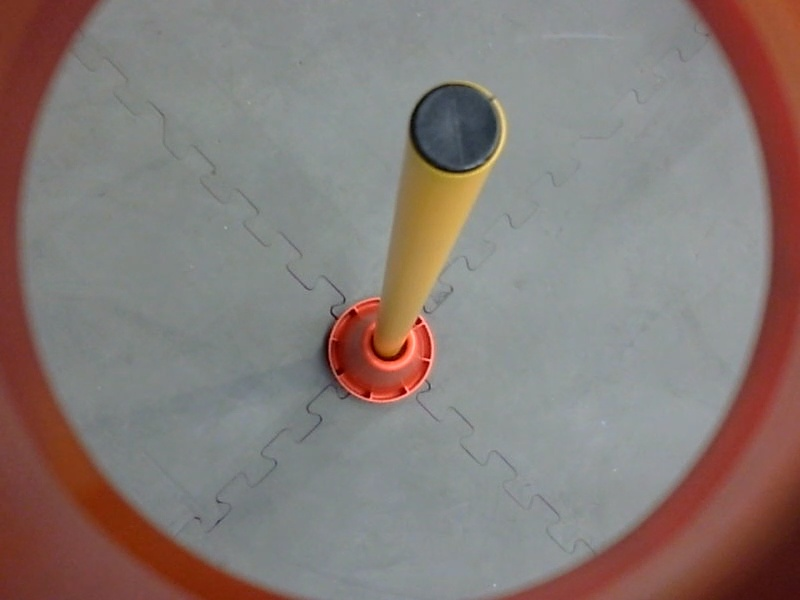tip: (393, 72, 516, 184)
